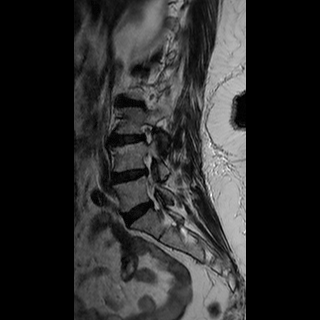RFS0: (135, 119, 156, 148)
